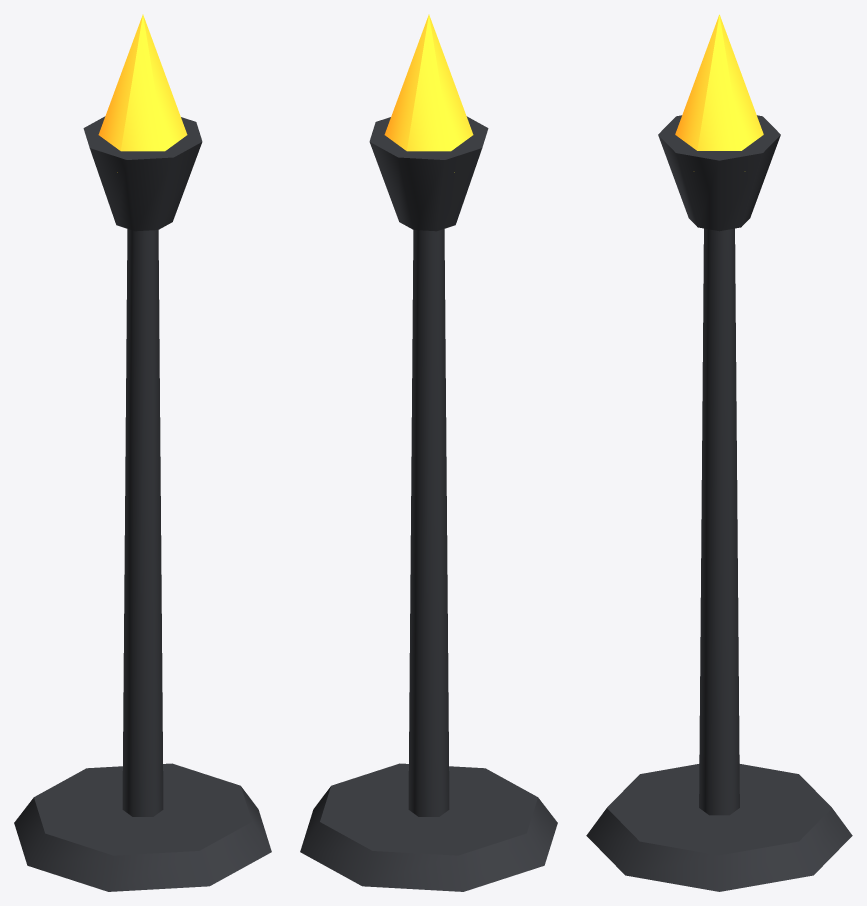
Rendered from torch-stand.glb.
3 renders of one model, left to right at view 1: azimuth 30°, elevation 25°; view 2: azimuth 150°, elevation 25°; view 3: azimuth 270°, elevation 25°, orthographic.
Parts seen in each view (by area): view 1: torch_stand_base, torch_stand_pole, torch_stand_cup, torch_stand_flame; view 2: torch_stand_base, torch_stand_pole, torch_stand_cup, torch_stand_flame; view 3: torch_stand_base, torch_stand_pole, torch_stand_cup, torch_stand_flame.
Boxes of the visible parts, x1=… form: torch_stand_base: x1=14, y1=763, x2=271, y2=891; torch_stand_pole: x1=122, y1=229, x2=163, y2=816; torch_stand_cup: x1=83, y1=116, x2=202, y2=231; torch_stand_flame: x1=98, y1=14, x2=187, y2=172; torch_stand_base: x1=300, y1=763, x2=557, y2=891; torch_stand_pole: x1=408, y1=229, x2=449, y2=816; torch_stand_cup: x1=369, y1=116, x2=488, y2=231; torch_stand_flame: x1=384, y1=14, x2=473, y2=172; torch_stand_base: x1=586, y1=764, x2=852, y2=891; torch_stand_pole: x1=699, y1=228, x2=739, y2=815; torch_stand_cup: x1=658, y1=115, x2=780, y2=231; torch_stand_flame: x1=675, y1=14, x2=763, y2=150.
Bounding box in the file's own units: 0.52 × 1.77 × 0.52.
